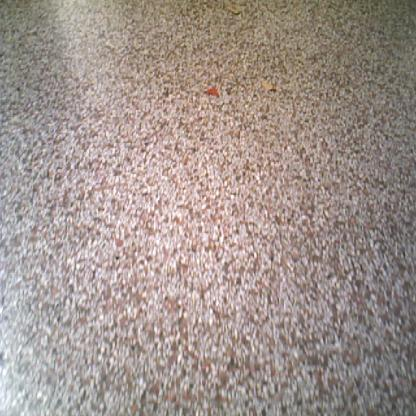dirty: (259, 78, 277, 93), (202, 84, 220, 98), (224, 3, 240, 16)
